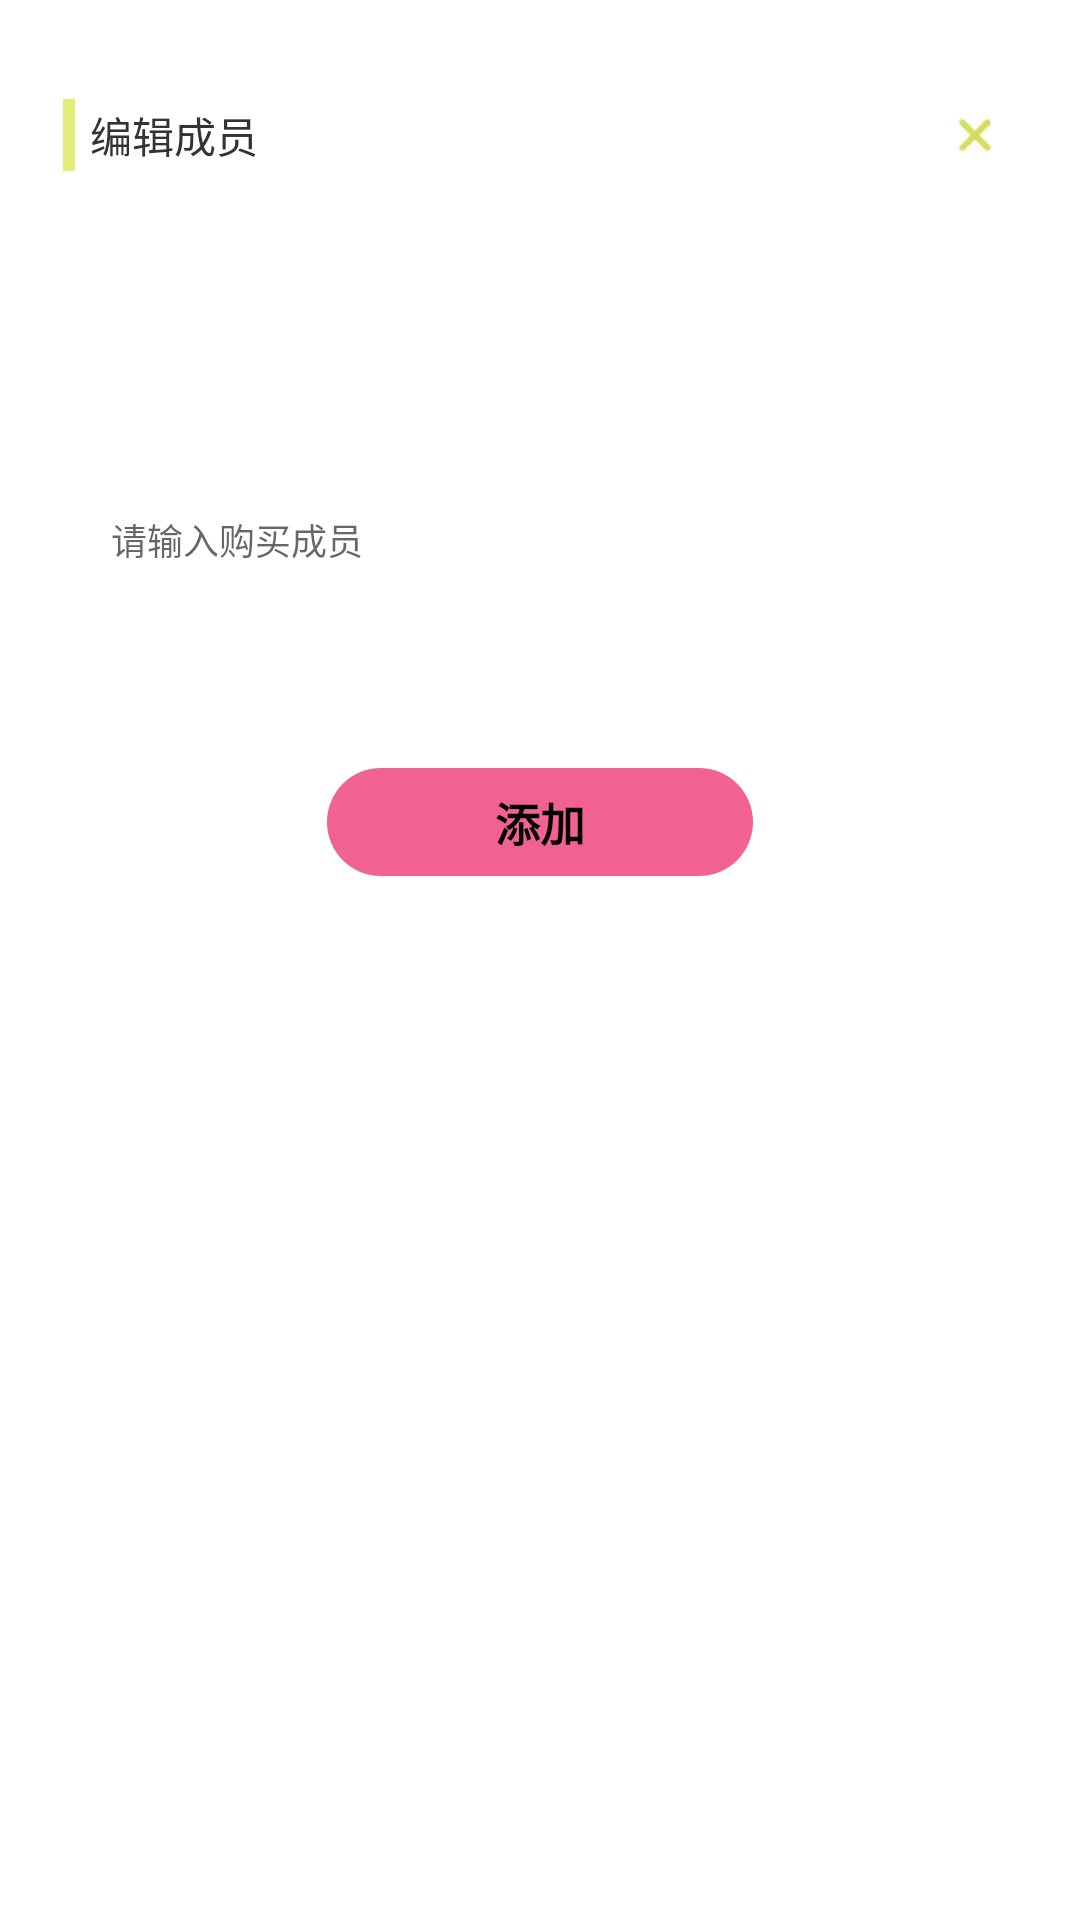

Named icons in this screenshot (1080px x 1920px) and their centers, (x=x, y=y):
exit: (x=975, y=135)
